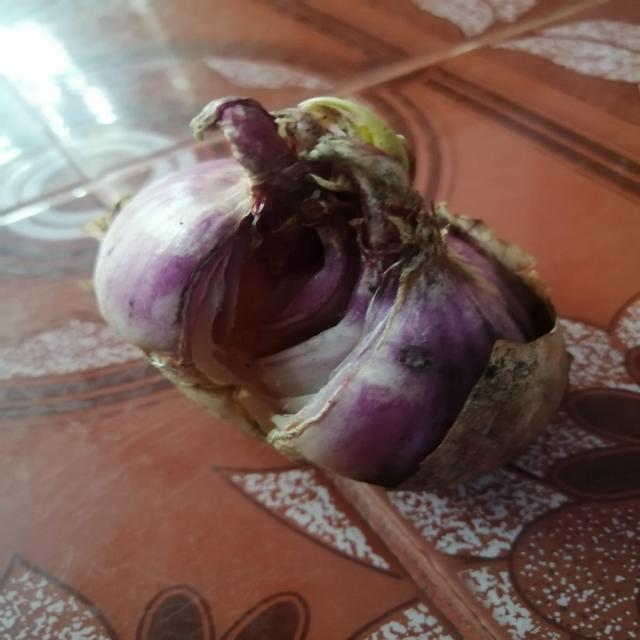rotten: (218, 230, 362, 410)
sprouting: (317, 110, 408, 172)
